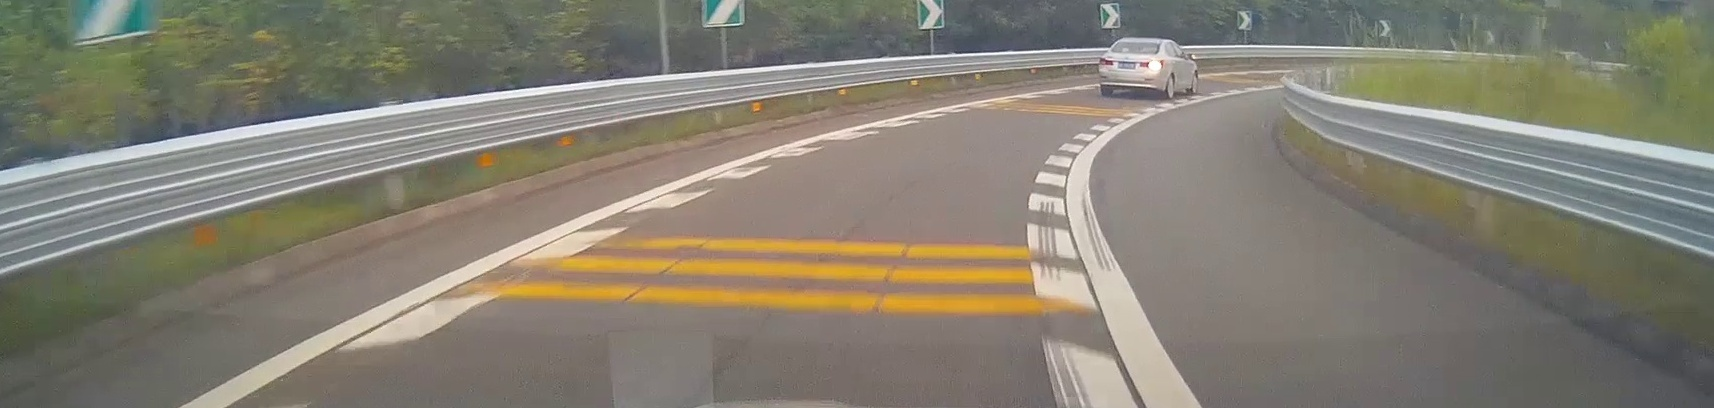L_light: (1097, 57, 1114, 66)
R_light: (1140, 59, 1164, 68)
T_light: (1135, 40, 1146, 42)
day-right: (1097, 37, 1167, 100)
